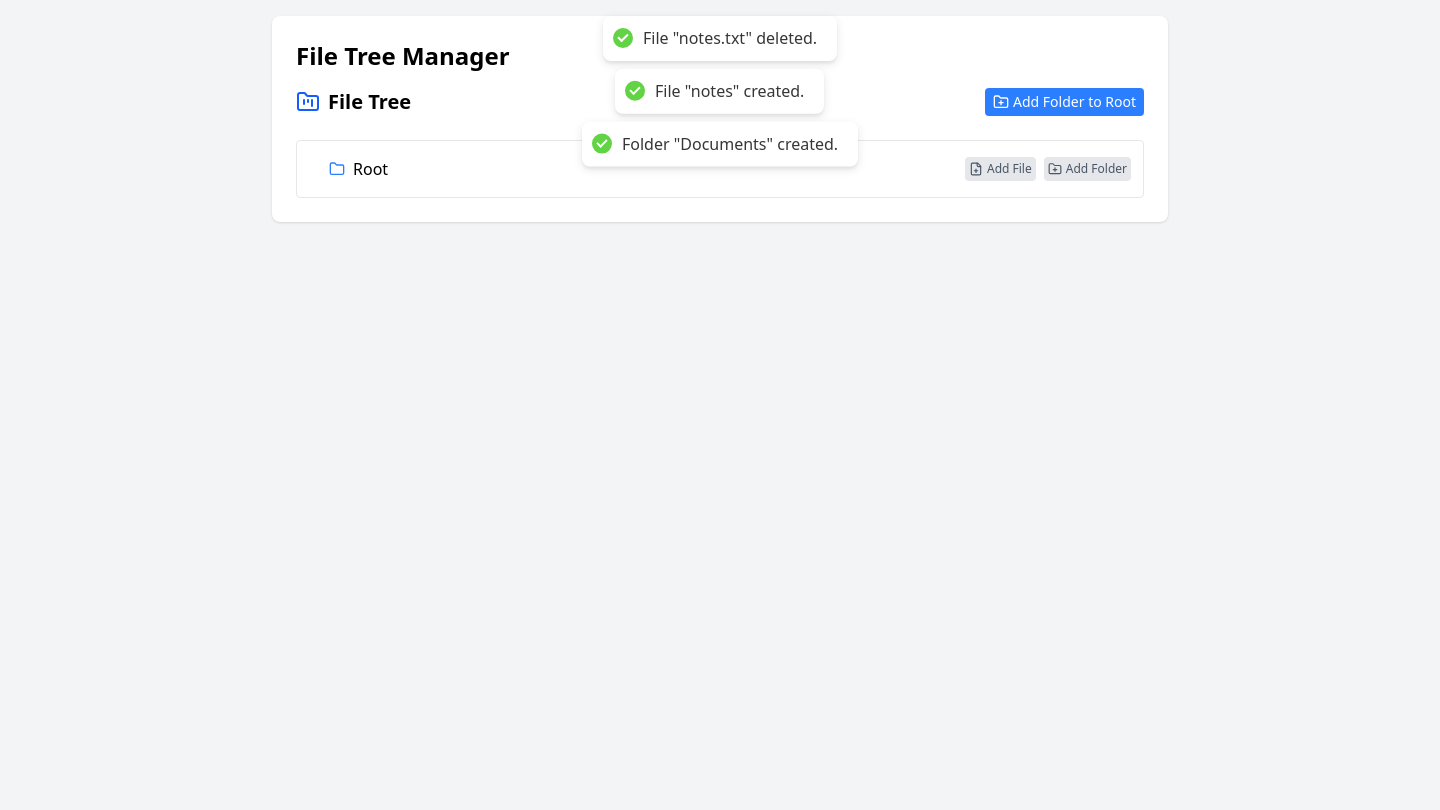
Scenario: Delete Operations › should delete a folder after confirmation
// Create a folder
Click the button "Add Folder to Root" at (1064, 102), box left=985, top=88, right=1144, bottom=116
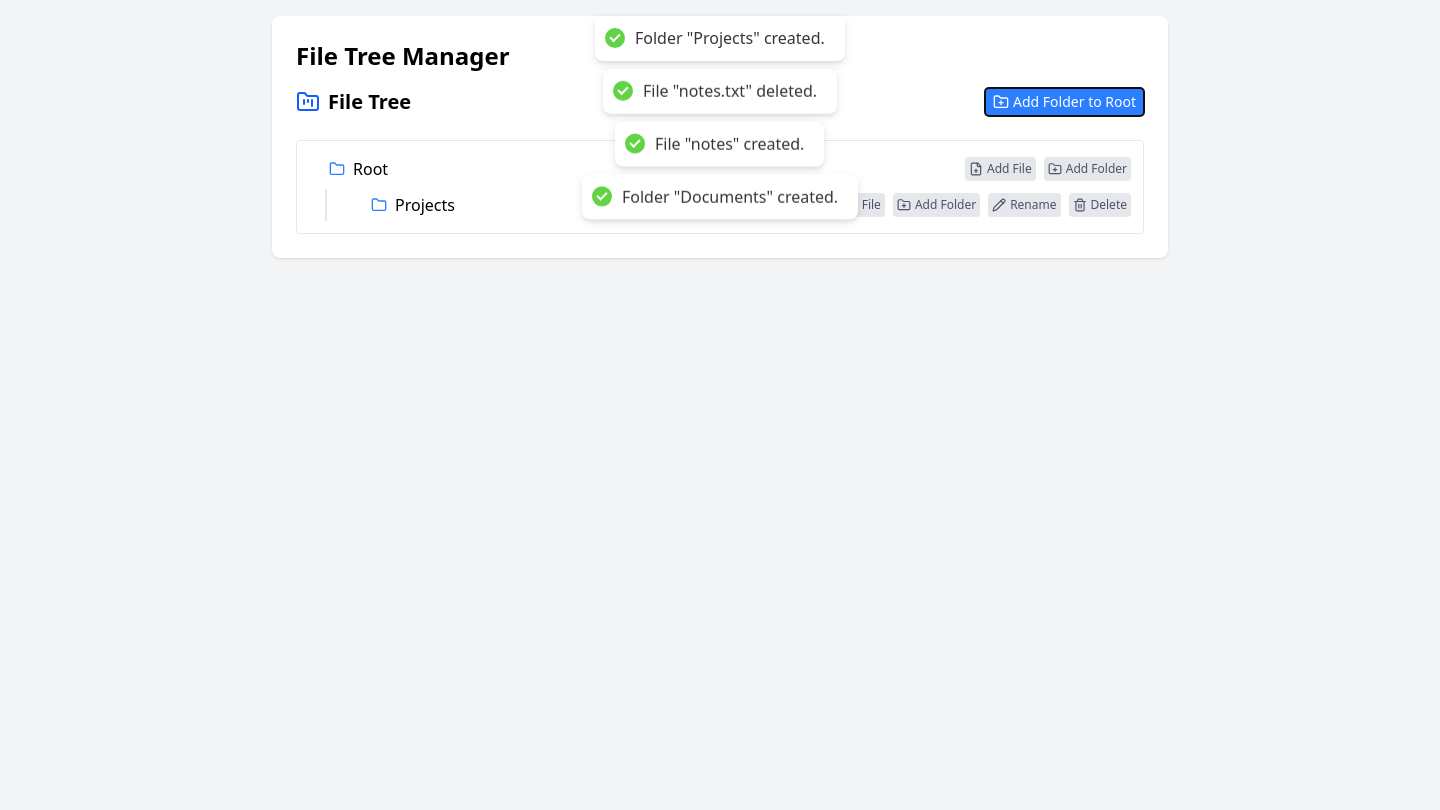
Click the button "Delete" at (1100, 205), box left=1068, top=193, right=1131, bottom=217
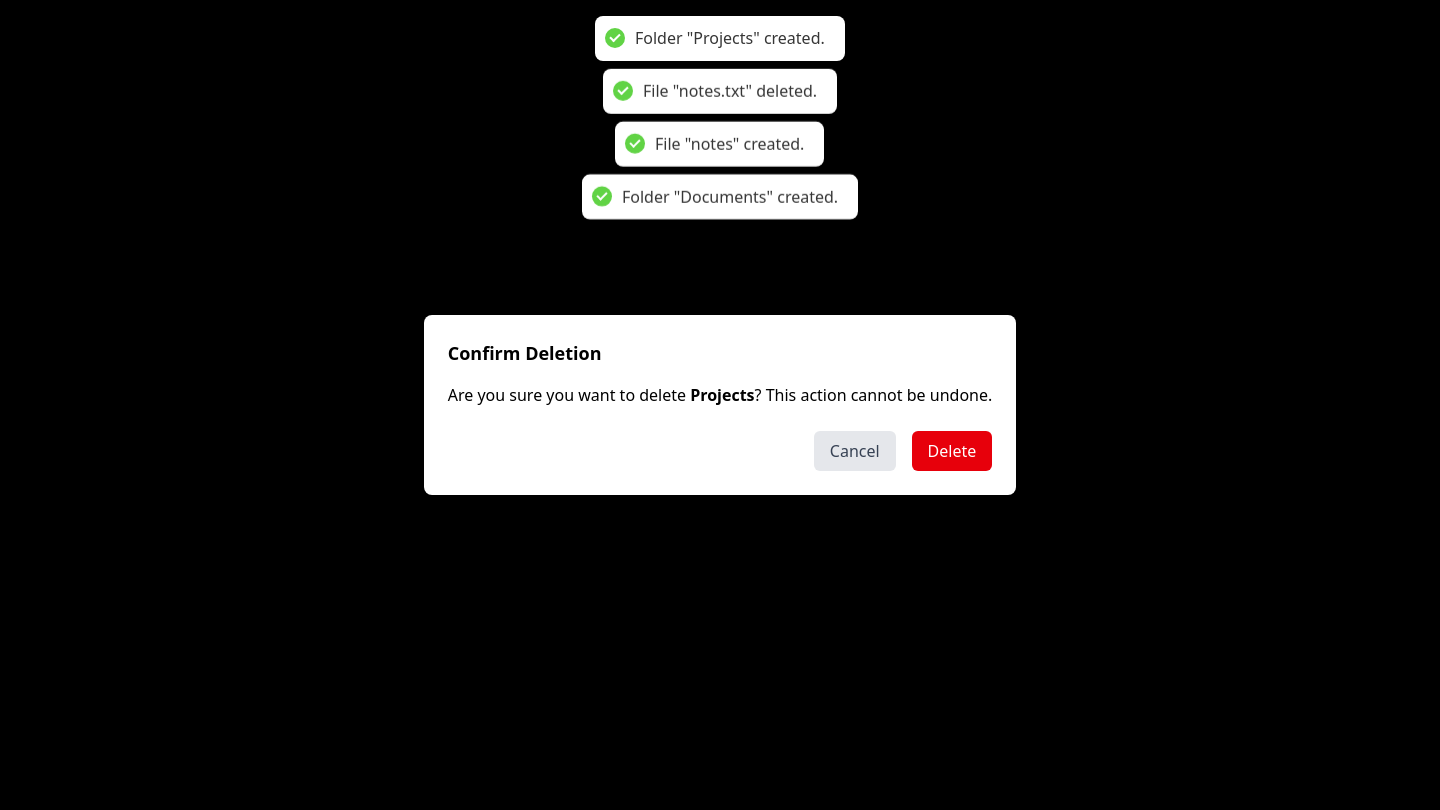
// Confirm deletion in the modal
Click the button "Delete" at (952, 451), box left=912, top=431, right=992, bottom=471
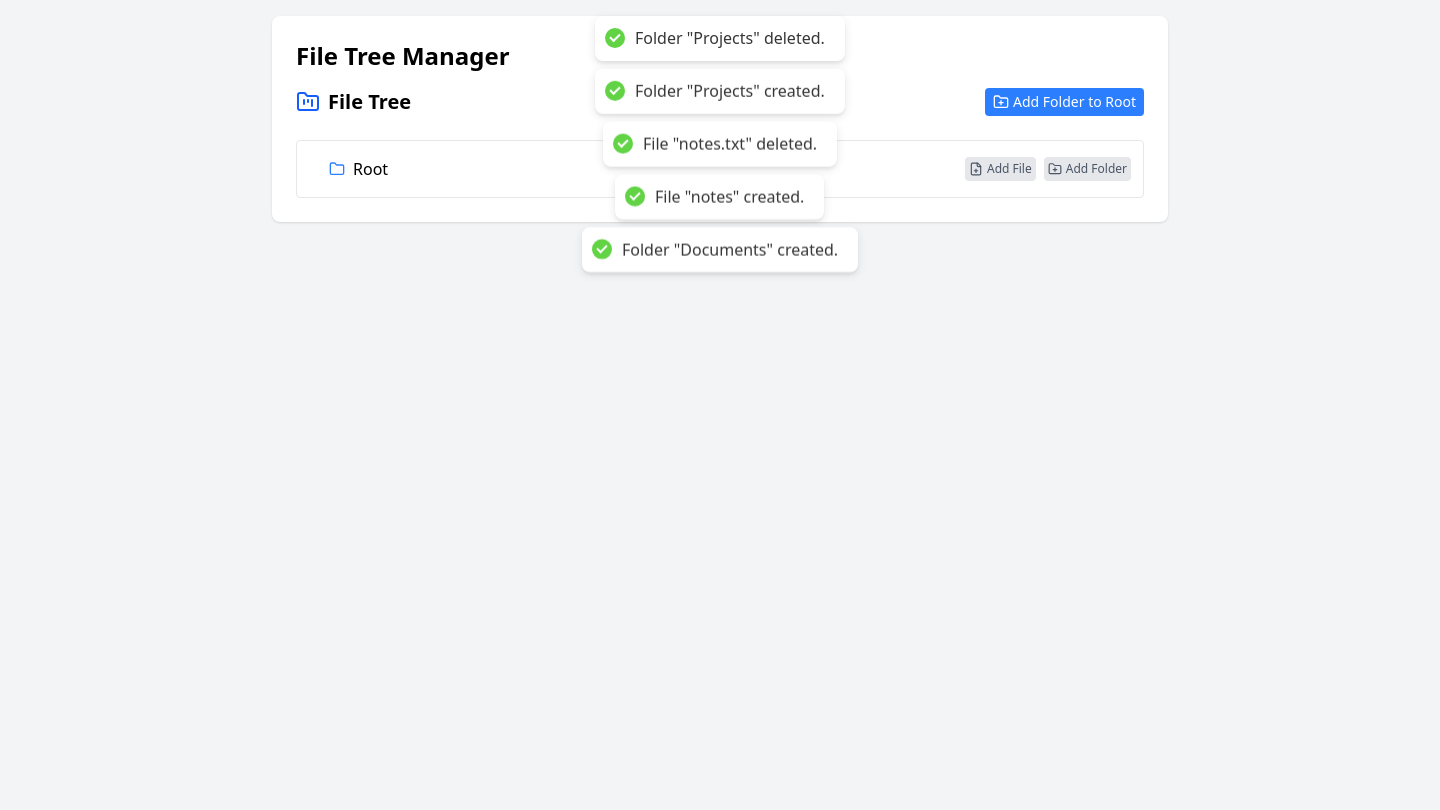
Now the text "Folder \"Projects\" deleted." is shown, box left=635, top=28, right=825, bottom=49
Now the dialog is gone
